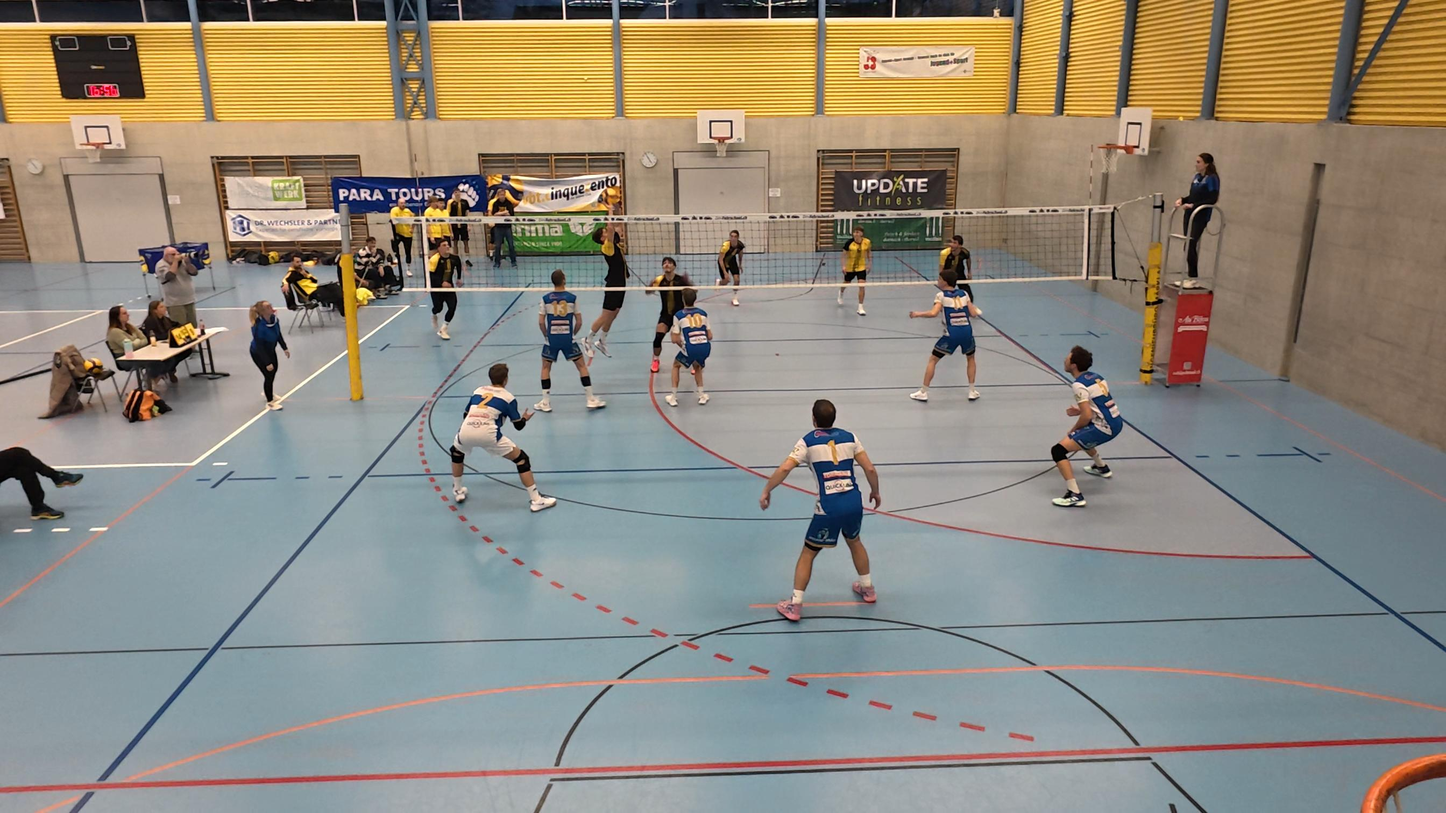alzata: (585, 202, 636, 362)
